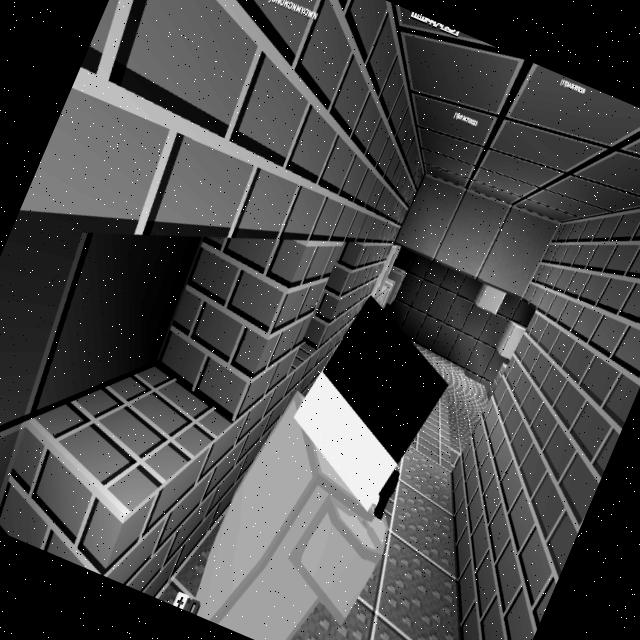Head: (269, 285, 468, 522)
Player: (182, 273, 475, 640)
